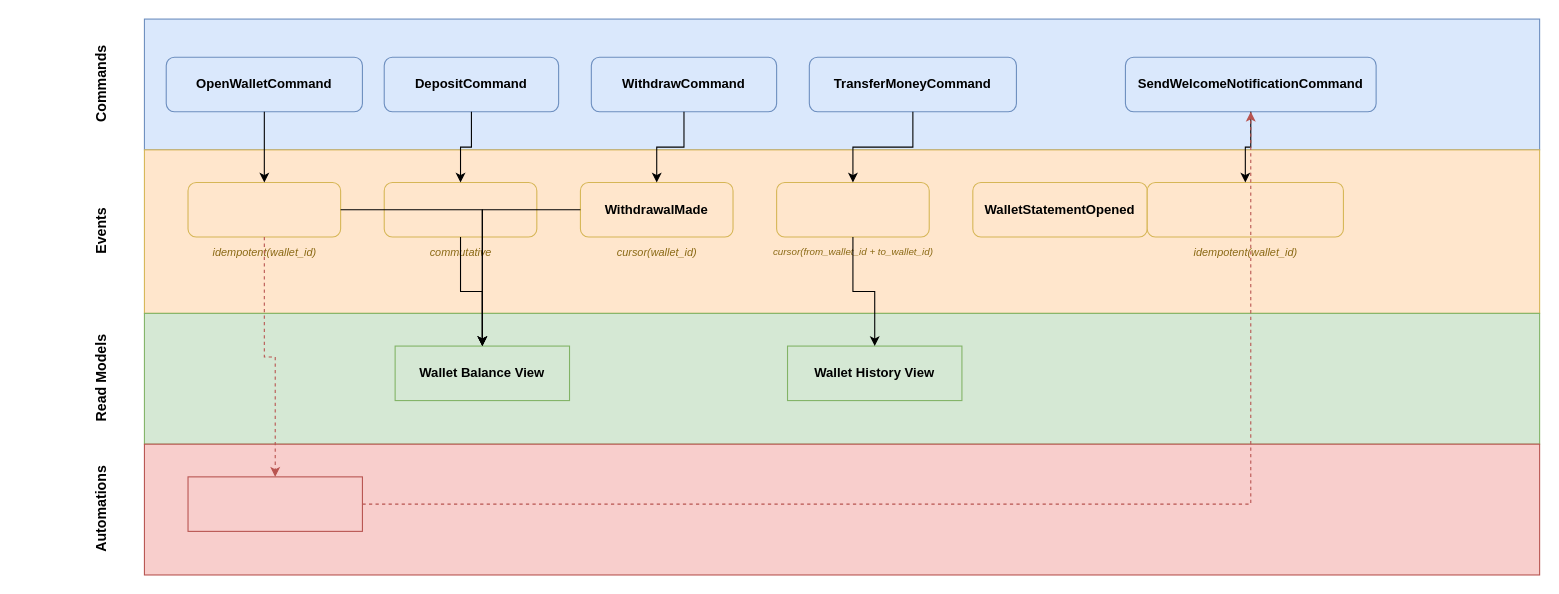
The diagram is 1559 pixels wide and 594 high, and some of its shapes have lost their labels. Each missing label, with the centre of its shape:
"DepositMade" goes at point 460,209.
"MoneyTransferred" goes at point 852,209.
"WalletOpened" goes at point 264,209.
"WalletOpenedReaction" goes at point 274,503.
"WelcomeNotificationSent" goes at point 1244,209.
